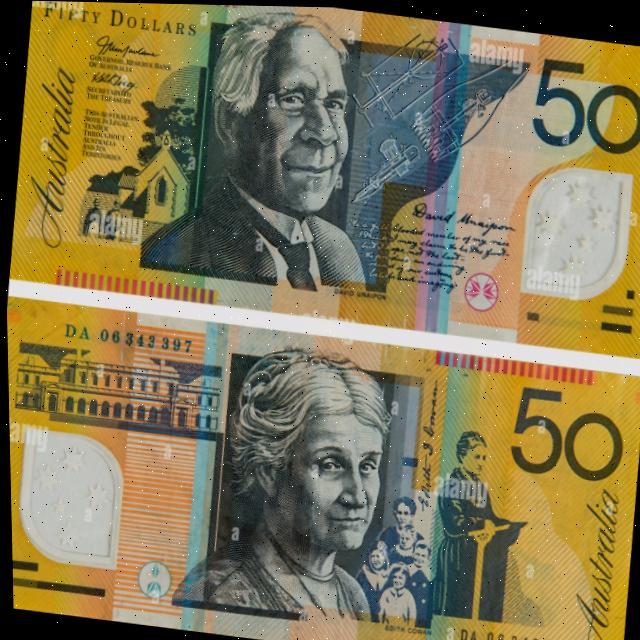banknote: (2, 0, 640, 356), (5, 293, 640, 640)
